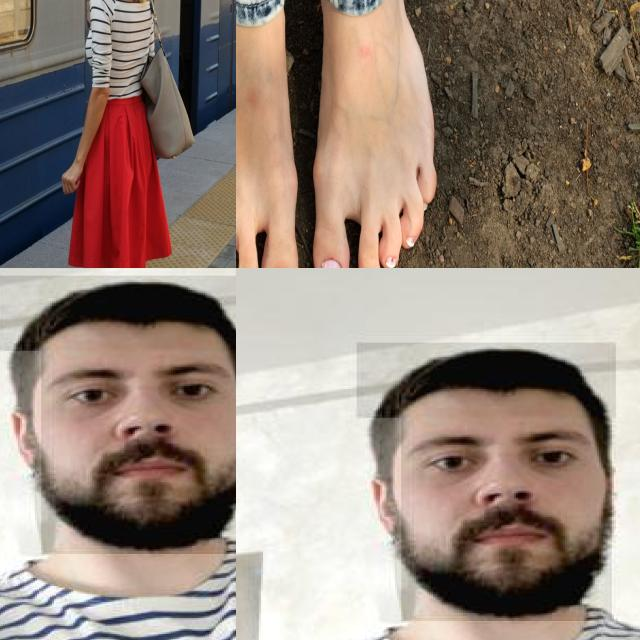Barefoots: (313, 0, 437, 268), (236, 0, 298, 268)
No_Ear-Protection: (358, 466, 422, 552), (0, 399, 61, 485)
No_Glasses: (391, 418, 605, 493), (31, 351, 236, 426)
face_nomask: (401, 418, 612, 621), (41, 351, 236, 554)
head_nohelmet: (357, 342, 616, 418), (0, 275, 236, 350)
person: (236, 334, 640, 640), (0, 268, 236, 640)
